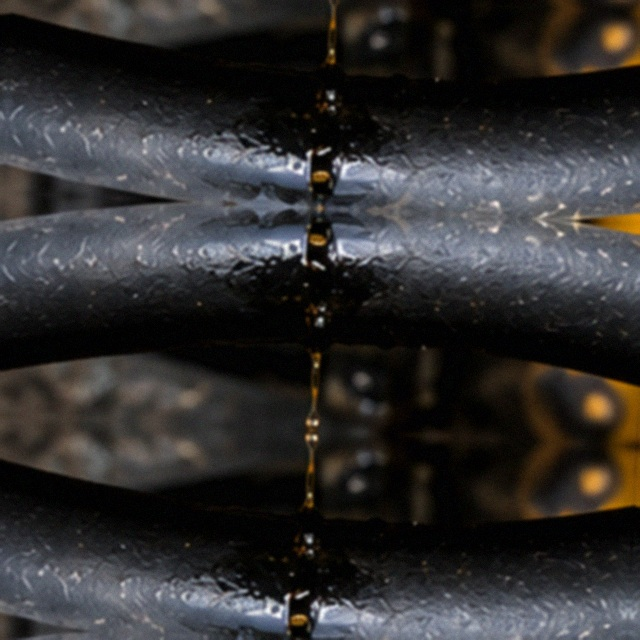hydraulic_oil_leak: (191, 215, 449, 467)
